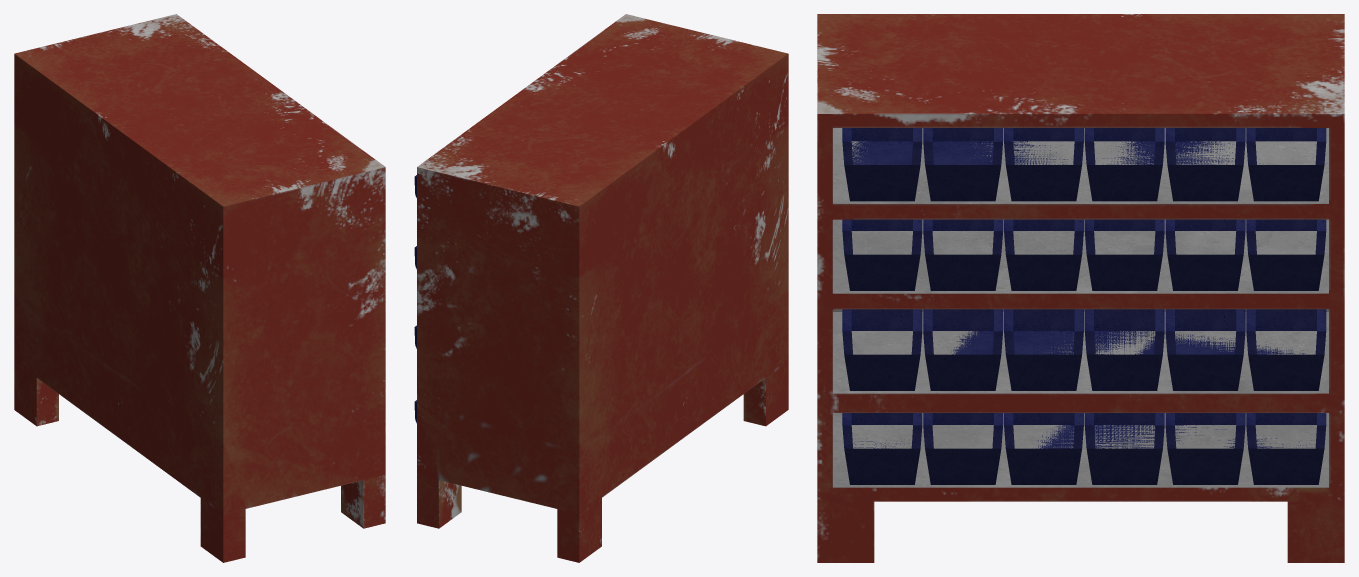
File: Maintenance_Shelf.fbx
The picture shows the model from 3 angles, left to right: view 1: azimuth 30°, elevation 25°; view 2: azimuth 150°, elevation 25°; view 3: azimuth 270°, elevation 25°; orthographic projection. The views are drawn at different scales.
Visible parts, largest first — view 1: Cube.003; view 2: Cube.003; view 3: Cube.003.
Part boxes in pixels (<box>): Cube.003: <box>14,14,385,562</box>; Cube.003: <box>414,14,788,562</box>; Cube.003: <box>817,14,1344,562</box>.
Bounding box in the file's own units: 49.61 × 98.12 × 104.
Materials: 2 (2 with a texture image).
